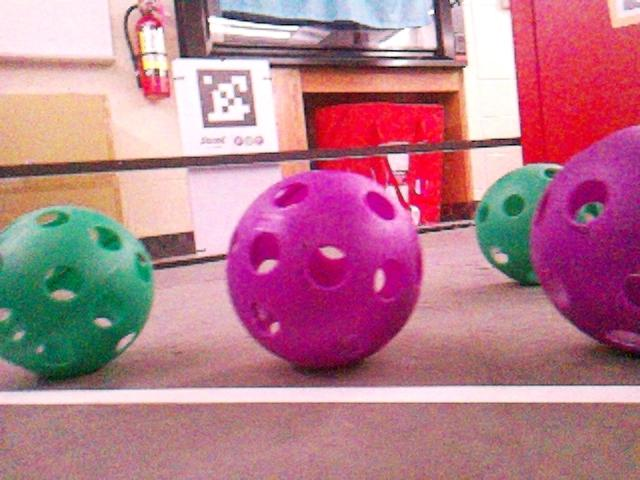Green: (0, 204, 154, 378), (474, 164, 563, 286)
Purple: (224, 170, 421, 367), (530, 124, 640, 353)
